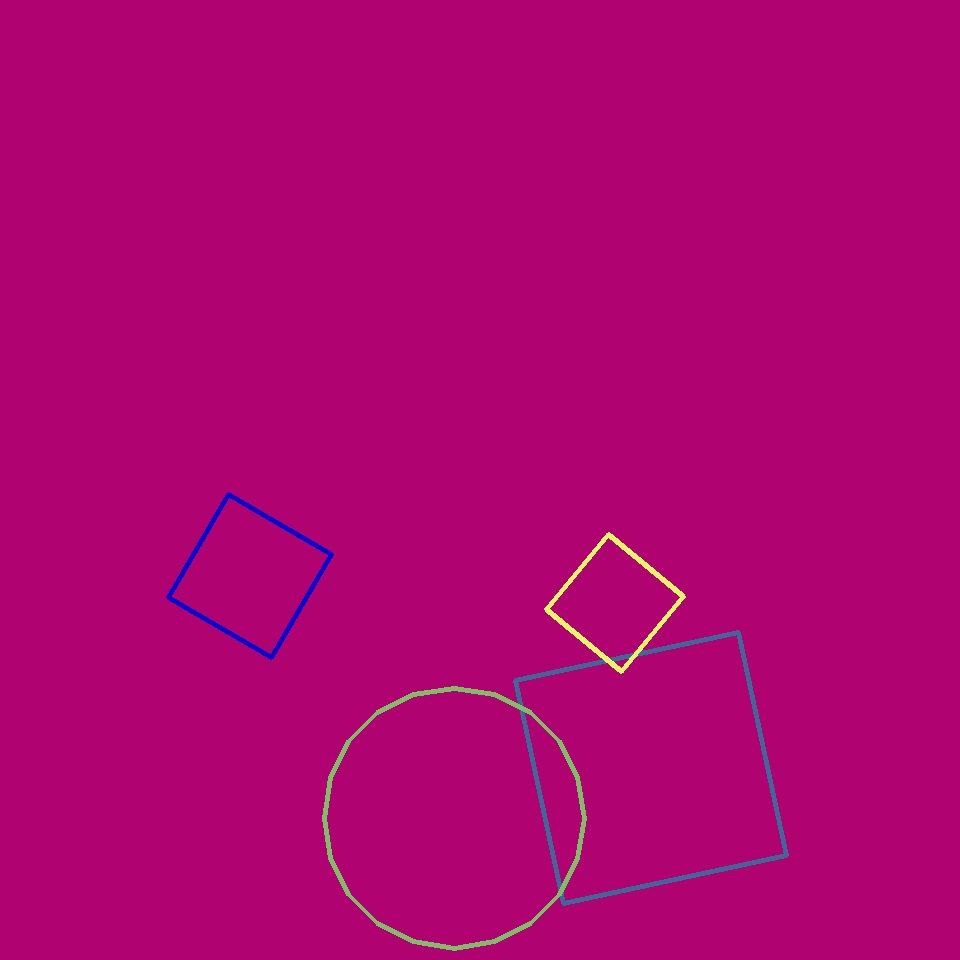square: (516, 633, 786, 904), (168, 494, 332, 657), (546, 535, 684, 672)
triangle: (324, 688, 584, 948)
